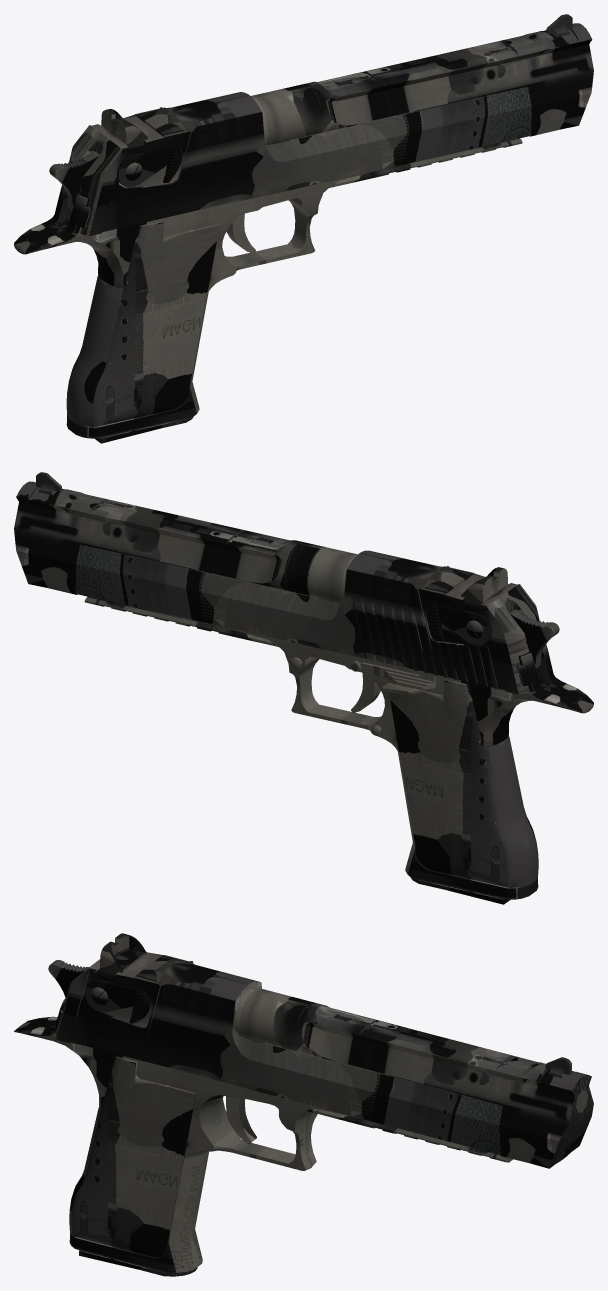
File: pist_deagle.obj
3 renders of one model, top to bottom at view 1: azimuth 30°, elevation 25°; view 2: azimuth 150°, elevation 25°; view 3: azimuth 330°, elevation 25°, orthographic.
Visible parts, largest first — view 1: SMDImport; view 2: SMDImport; view 3: SMDImport.
Part boxes in pixels (x1,y1,x2,y2): SMDImport: (14, 14, 593, 443); SMDImport: (14, 472, 593, 904); SMDImport: (14, 933, 593, 1276).
Bounding box in the file's own units: 1.14 × 0.6087 × 0.1306.
Materials: 1 (1 with a texture image).
